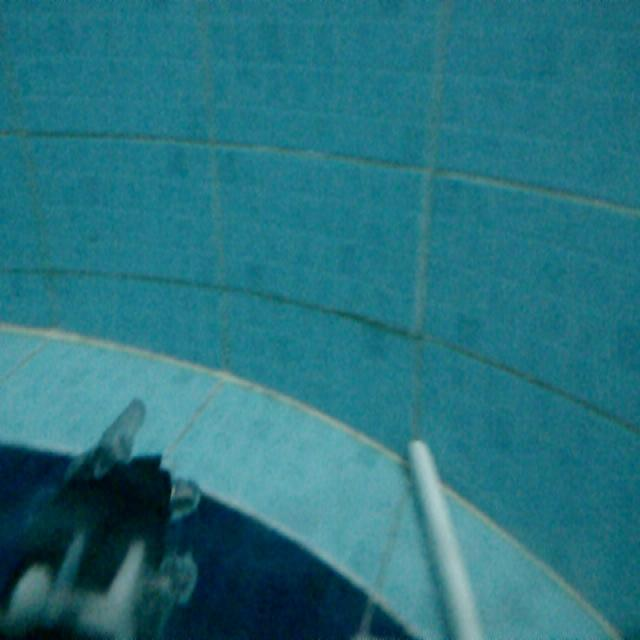Cube: (404, 436, 486, 640)
